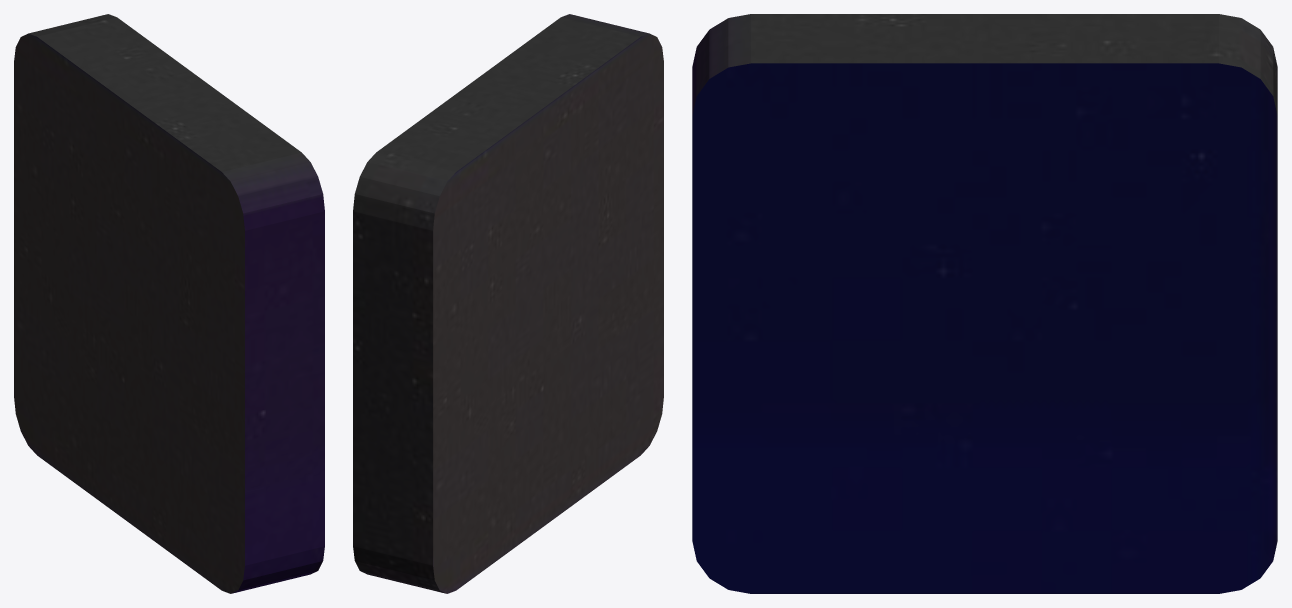
File: touch_stop.glb
3 renders of one model, left to right at view 1: azimuth 30°, elevation 25°; view 2: azimuth 150°, elevation 25°; view 3: azimuth 270°, elevation 25°, orthographic. The views are drawn at different scales.
Parts seen in each view (by area): view 1: touch_stop; view 2: touch_stop; view 3: touch_stop.
Boxes of the visible parts, left/top/right/bottom form: touch_stop: left=14, top=14, right=324, bottom=593; touch_stop: left=353, top=14, right=663, bottom=593; touch_stop: left=692, top=14, right=1277, bottom=593.
Size of the model in its own units: 0.14 by 0.7 by 0.7.
Materials: 1 (1 with a texture image).
